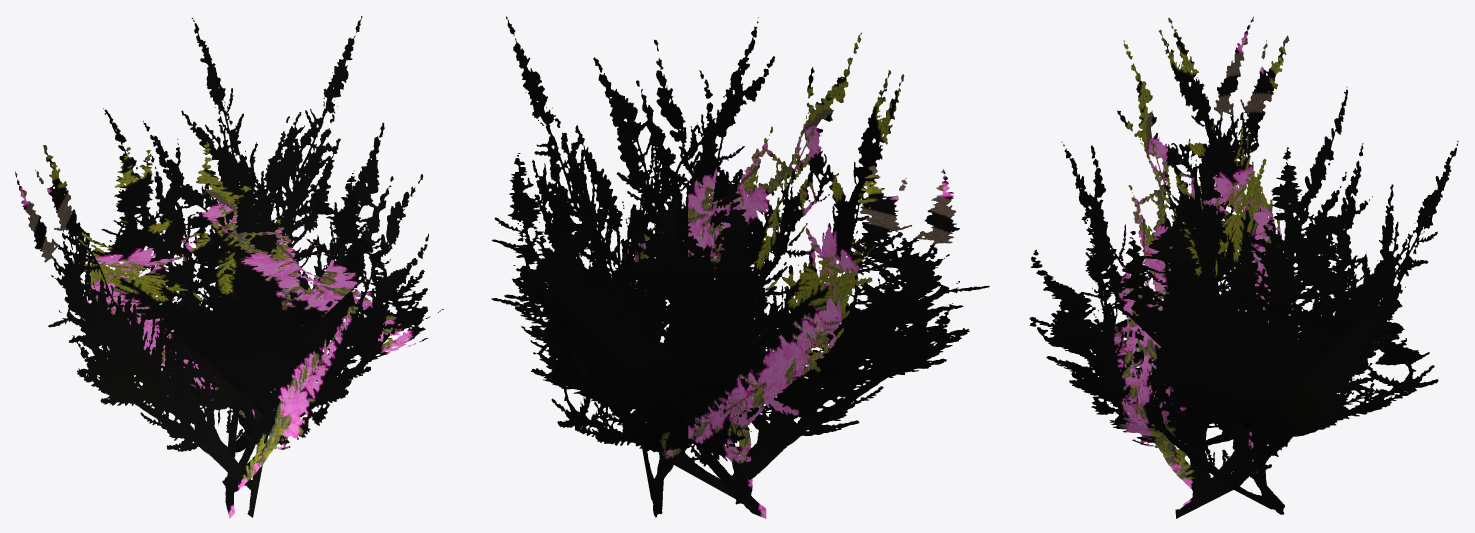
File: heather_04_LOD0.fbx
3 renders of one model, left to right at view 1: azimuth 30°, elevation 25°; view 2: azimuth 150°, elevation 25°; view 3: azimuth 270°, elevation 25°, orthographic. The views are drawn at different scales.
Visible parts, largest first — view 1: heather_04_LOD0; view 2: heather_04_LOD0; view 3: heather_04_LOD0.
Part boxes in pixels (box(x1,y1,x2,y2)): heather_04_LOD0: box(15, 16, 443, 518); heather_04_LOD0: box(491, 16, 989, 518); heather_04_LOD0: box(1029, 16, 1458, 518).
Bounding box in the file's own units: 101 × 111 × 95.55.
